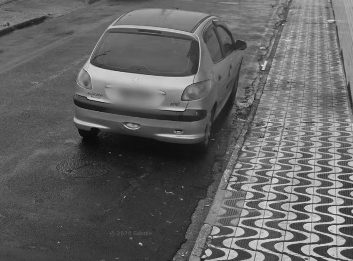car: (70, 4, 251, 161)
